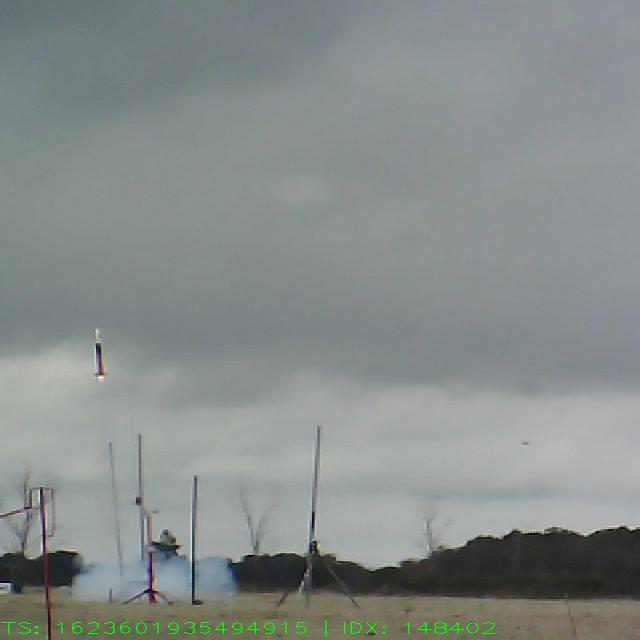Rocket: (93, 327, 106, 377)
